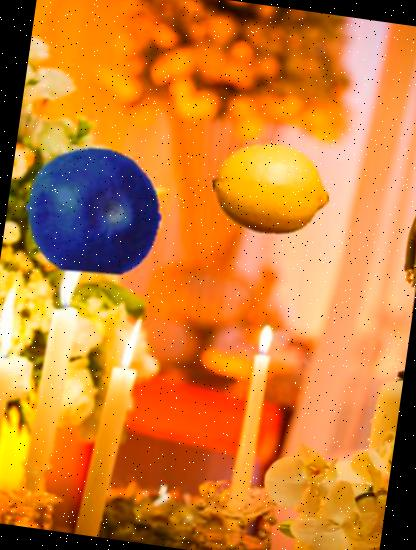Huckleberry: (17, 134, 172, 288)
Lemon: (206, 125, 336, 254)
